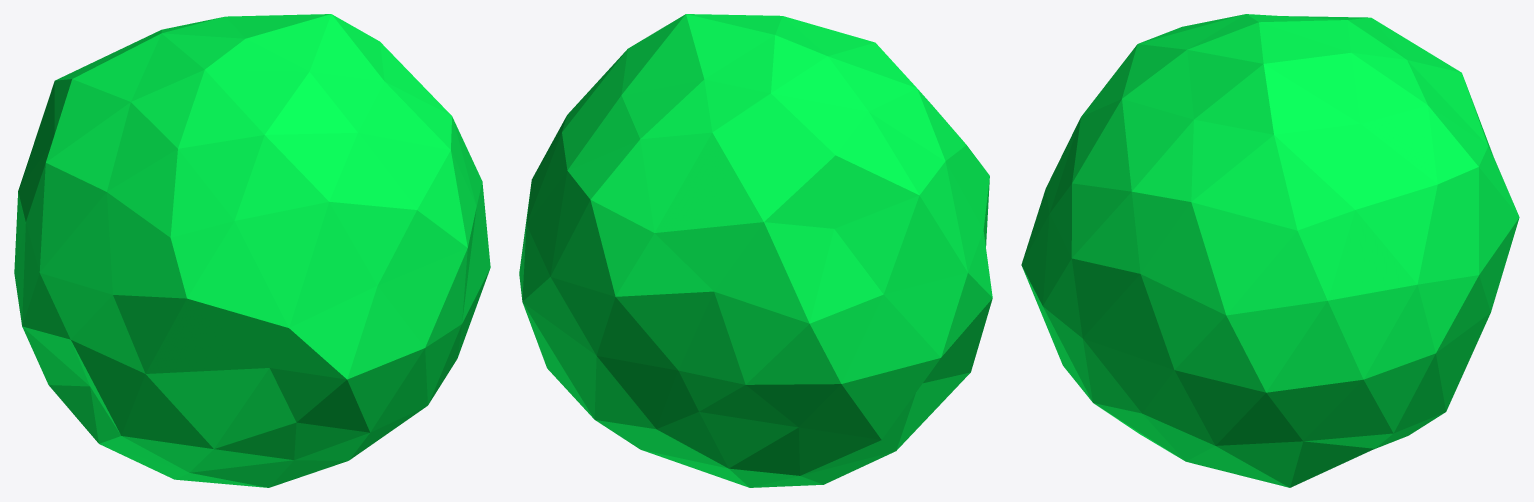
File: Crystal.FBX
The picture shows the model from 3 angles, left to right: view 1: azimuth 30°, elevation 25°; view 2: azimuth 150°, elevation 25°; view 3: azimuth 270°, elevation 25°; orthographic projection.
Visible parts, largest first — view 1: GeoSphere001; view 2: GeoSphere001; view 3: GeoSphere001.
Boxes of the visible parts, bbox=[...] form: GeoSphere001: bbox=[14, 14, 490, 487]; GeoSphere001: bbox=[519, 14, 992, 487]; GeoSphere001: bbox=[1021, 14, 1519, 487].
Size of the model in its own units: 53.77 by 52.28 by 54.
